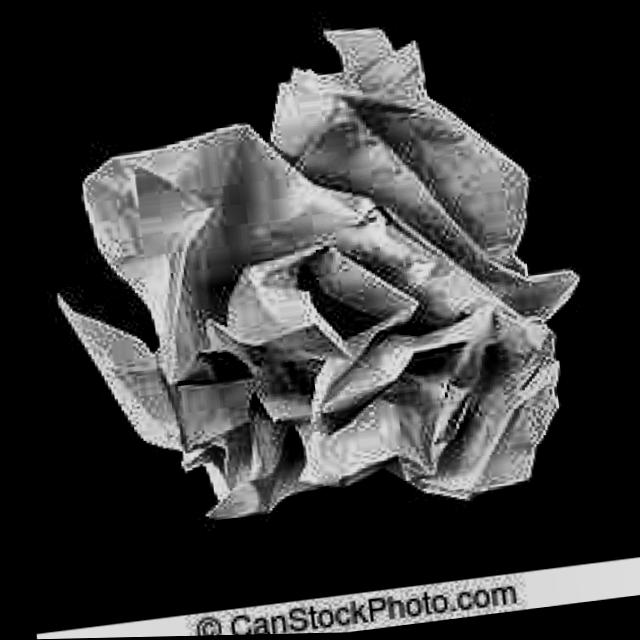Paper: (28, 3, 608, 560)
